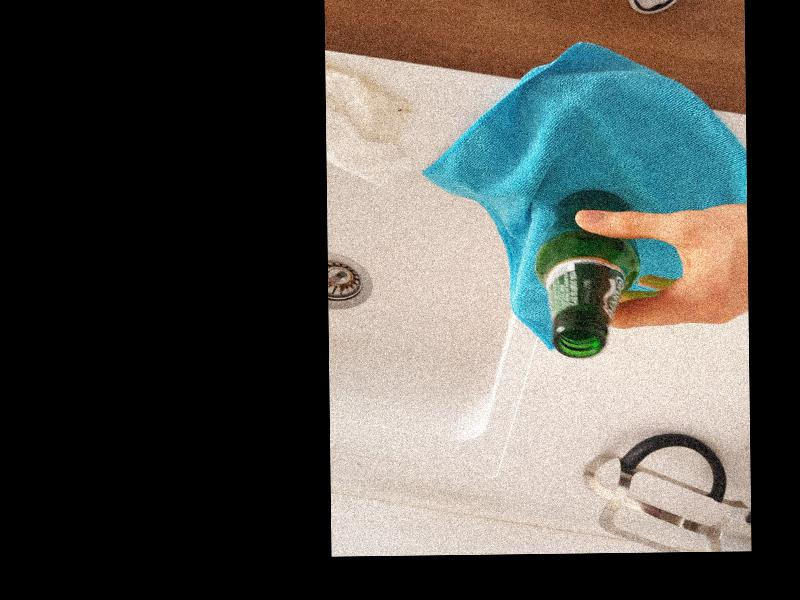Beer: (536, 187, 632, 356)
